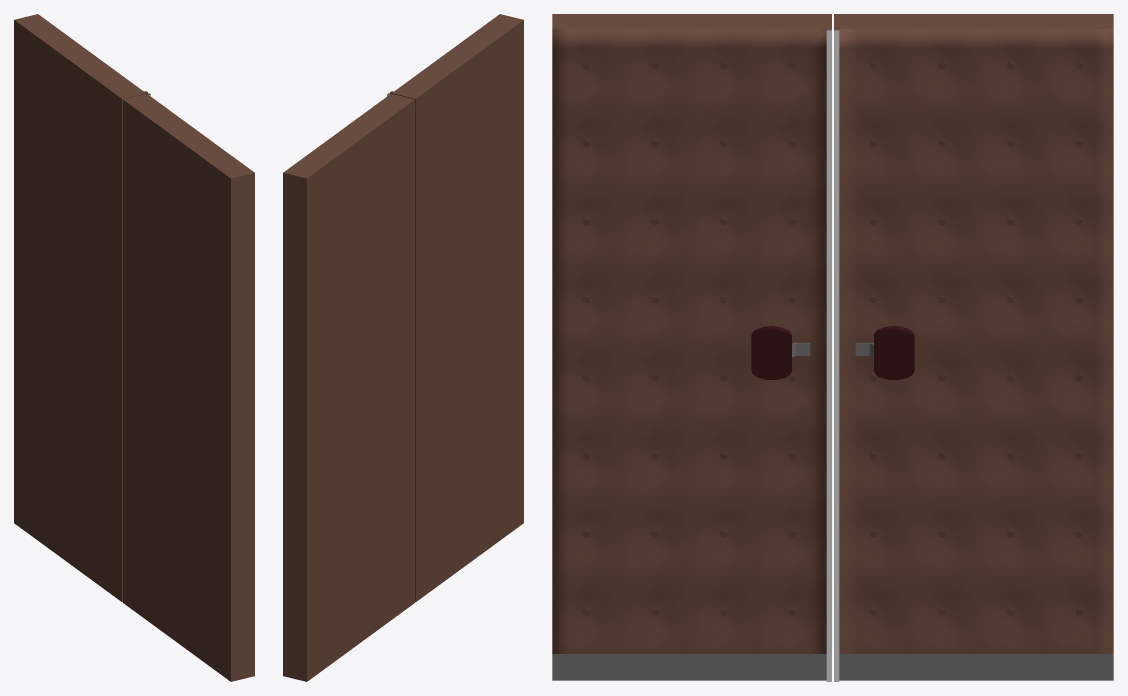
File: Cinema doors.fbx
3 views of the same model, side by side, from view 1: azimuth 30°, elevation 25°; view 2: azimuth 150°, elevation 25°; view 3: azimuth 270°, elevation 25° (orthographic). The views are drawn at different scales.
Visible parts, largest first — view 1: Cube; view 2: Cube; view 3: Cube, Cube.001.
Boxes of the visible parts, x1,y1,x2,y2 form: Cube: [14, 14, 254, 681]; Cube: [283, 14, 523, 681]; Cube: [552, 14, 1113, 681]; Cube.001: [751, 326, 914, 379].
Size of the model in its own units: 13.04 by 190 by 148.
